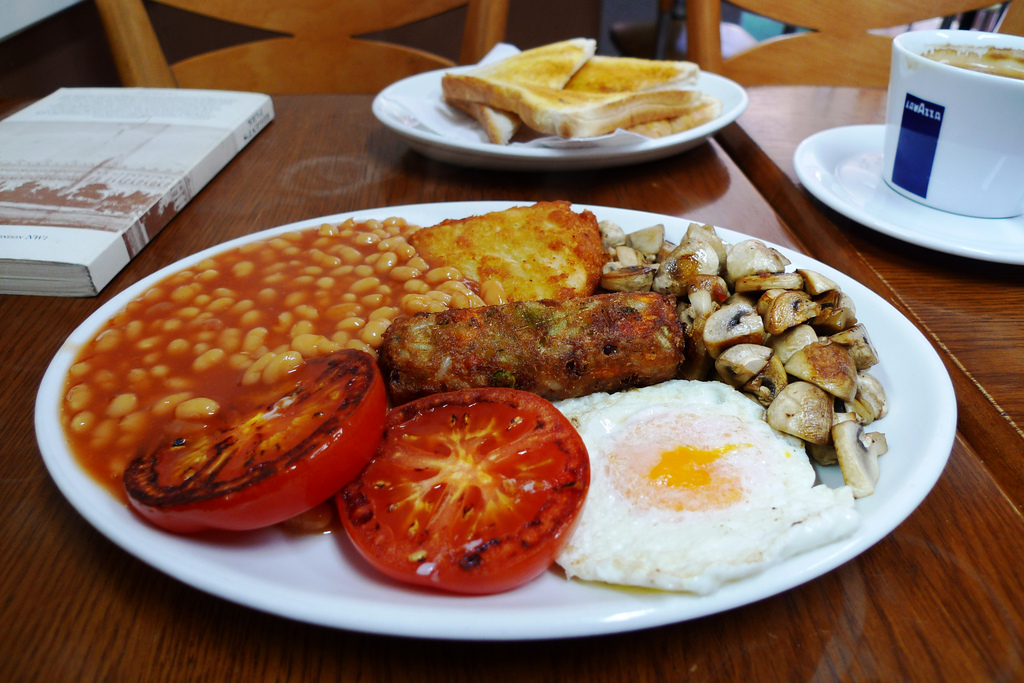fried egg: (558, 383, 810, 589)
slice of bread: (435, 34, 722, 150)
